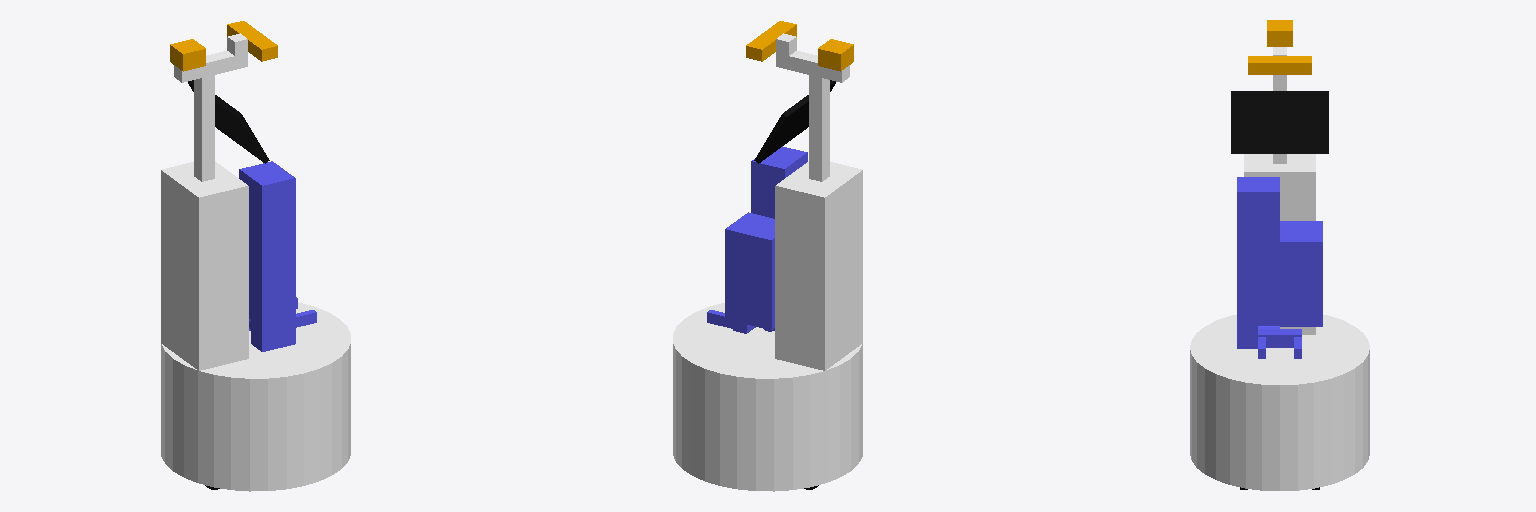
The robot description file, URDF, robot "korus_v3":
<?xml version="1.0" ?>
<!-- =================================================================================== -->
<!-- |    This document was autogenerated by xacro from korus_v3_world.urdf.xacro      | -->
<!-- |    EDITING THIS FILE BY HAND IS NOT RECOMMENDED                                 | -->
<!-- =================================================================================== -->
<robot name="korus_v3" xmlns:xacro="http://www.ros.org/wiki/xacro">
  <!--   <include filename="$(find korus_meta)/resources/urdf/omni_drive_base.urdf.xacro"/> -->
  <!-- ************************ Base model ************************* -->
  <link name="local_manip_start"/>
  <joint name="base_position_x_joint" type="prismatic">
    <parent link="local_manip_start"/>
    <child link="base_position_x_link"/>
    <origin rpy="0 0 0" xyz="0.0 0.0 0.0"/>
    <axis xyz="1 0 0"/>
    <limit effort="10" lower="-2.0" upper="2.0" velocity="1.0"/>
  </joint>
  <link name="base_position_x_link"/>
  <joint name="base_position_y_joint" type="prismatic">
    <parent link="base_position_x_link"/>
    <child link="base_position_y_link"/>
    <origin rpy="0 0 0" xyz="0.0 0.0 0.0"/>
    <axis xyz="0 1 0"/>
    <limit effort="10" lower="-2.0" upper="2.0" velocity="1.0"/>
  </joint>
  <link name="base_position_y_link"/>
  <joint name="base_heading_joint" type="revolute">
    <parent link="base_position_y_link"/>
    <child link="base_link"/>
    <origin rpy="0 0 0" xyz="0.0 0.0 0.075"/>
    <axis xyz="0 0 1"/>
    <limit effort="10" lower="-3.14159265359" upper="3.14159265359" velocity="1.0"/>
  </joint>
  <link name="base_link">
    <visual>
      <origin rpy="0 0 0" xyz="0.0 0 0.0875"/>
      <geometry>
        <cylinder length="0.275" radius="0.250"/>
      </geometry>
      <material name="white">
        <color rgba="1 1 1 1"/>
      </material>
    </visual>
    <collision>
      <origin rpy="0 0 0" xyz="0.0 0 0.0875"/>
      <geometry>
        <cylinder length="0.275" radius="0.250"/>
      </geometry>
      <material name="white">
        <color rgba="1 1 1 1"/>
      </material>
    </collision>
  </link>
  <joint name="wheel_left_joint" type="fixed">
    <parent link="base_link"/>
    <child link="wheel_left_link"/>
    <origin rpy="0 0 1.57079632679" xyz="0.0 0.15 0.0"/>
  </joint>
  <link name="wheel_left_link">
    <visual>
      <geometry>
        <cylinder length="0.03" radius="0.075"/>
      </geometry>
      <origin rpy="0 1.57079632679 0" xyz="0 0 0"/>
      <material name="black">
        <color rgba="0.1 0.1 0.1 1"/>
      </material>
    </visual>
  </link>
  <joint name="wheel_right_joint" type="fixed">
    <parent link="base_link"/>
    <child link="wheel_right_link"/>
    <origin rpy="0 0 1.57079632679" xyz="0.0 -0.15 0.0"/>
  </joint>
  <link name="wheel_right_link">
    <visual>
      <geometry>
        <cylinder length="0.03" radius="0.075"/>
      </geometry>
      <origin rpy="0 1.57079632679 0" xyz="0 0 0"/>
      <material name="black">
        <color rgba="0.1 0.1 0.1 1"/>
      </material>
    </visual>
  </link>
  <joint name="caster_front_left_joint" type="fixed">
    <parent link="base_link"/>
    <child link="caster_front_left_link"/>
    <origin rpy="0 0 1.57079632679" xyz="0.18 0.1 -0.035"/>
  </joint>
  <link name="caster_front_left_link">
    <visual>
      <geometry>
        <cylinder length="0.02" radius="0.04"/>
      </geometry>
      <origin rpy="0 1.57079632679 0" xyz="0 0 0"/>
      <material name="black">
        <color rgba="0.1 0.1 0.1 1"/>
      </material>
    </visual>
  </link>
  <joint name="caster_front_right_joint" type="fixed">
    <parent link="base_link"/>
    <child link="caster_front_right_link"/>
    <origin rpy="0 0 1.57079632679" xyz="0.18 -0.1 -0.035"/>
  </joint>
  <link name="caster_front_right_link">
    <visual>
      <geometry>
        <cylinder length="0.02" radius="0.04"/>
      </geometry>
      <origin rpy="0 1.57079632679 0" xyz="0 0 0"/>
      <material name="black">
        <color rgba="0.1 0.1 0.1 1"/>
      </material>
    </visual>
  </link>
  <joint name="caster_back_left_joint" type="fixed">
    <parent link="base_link"/>
    <child link="caster_back_left_link"/>
    <origin rpy="0 0 1.57079632679" xyz="-0.18 0.1 -0.035"/>
  </joint>
  <link name="caster_back_left_link">
    <visual>
      <geometry>
        <cylinder length="0.02" radius="0.04"/>
      </geometry>
      <origin rpy="0 1.57079632679 0" xyz="0 0 0"/>
      <material name="black">
        <color rgba="0.1 0.1 0.1 1"/>
      </material>
    </visual>
  </link>
  <joint name="caster_back_right_joint" type="fixed">
    <parent link="base_link"/>
    <child link="caster_back_right_link"/>
    <origin rpy="0 0 1.57079632679" xyz="-0.18 -0.1 -0.035"/>
  </joint>
  <link name="caster_back_right_link">
    <visual>
      <geometry>
        <cylinder length="0.02" radius="0.04"/>
      </geometry>
      <origin rpy="0 1.57079632679 0" xyz="0 0 0"/>
      <material name="black">
        <color rgba="0.1 0.1 0.1 1"/>
      </material>
    </visual>
  </link>
  <!--   <xacro:diff_drive_base parent="base_footprint" body_mount_link="base_link"/> -->
  <!--   <xacro:omni_drive_base parent="base_footprint" body_mount_link="base_link"/> -->
  <!-- ************************ Body model ************************* -->
  <joint name="torso_joint" type="revolute">
    <parent link="base_link"/>
    <child link="torso_link"/>
    <origin rpy="0 0 0" xyz="0.0 0.0 0.250"/>
    <axis xyz="0 0 1"/>
    <limit effort="10" lower="-3.14159265359" upper="2.79252680319" velocity="1.0"/>
  </joint>
  <link name="torso_link">
    <visual>
      <origin rpy="0 0 0" xyz="0.0 0.0 0.0"/>
      <geometry>
        <cylinder length="0.05" radius="0.25"/>
      </geometry>
      <material name="white">
        <color rgba="1 1 1 1"/>
      </material>
    </visual>
    <collision>
      <origin rpy="0 0 0" xyz="0.0 0.0 0.0"/>
      <geometry>
        <cylinder length="0.05" radius="0.25"/>
      </geometry>
      <material name="white">
        <color rgba="1 1 1 1"/>
      </material>
    </collision>
  </link>
  <joint name="turret_offset_joint" type="fixed">
    <parent link="torso_link"/>
    <child link="turret_offset_link"/>
    <origin rpy="0 0 0" xyz="-0.155 0.0 0.025"/>
  </joint>
  <link name="turret_offset_link">
    <visual>
      <geometry>
        <box size="0.15 0.20 0.5"/>
      </geometry>
      <origin rpy="0 0 0" xyz="0.0 0 0.25"/>
      <material name="white">
        <color rgba="1 1 1 1"/>
      </material>
    </visual>
    <collision>
      <geometry>
        <box size="0.15 0.20 0.5"/>
      </geometry>
      <origin rpy="0 0 0" xyz="0 0 0.25"/>
    </collision>
  </link>
  <joint name="torso_lift_offset" type="fixed">
    <parent link="turret_offset_link"/>
    <child link="torso_lift_offset_link"/>
    <origin rpy="0 0 0" xyz="0 0 0.22"/>
  </joint>
  <link name="torso_lift_offset_link"/>
  <joint name="torso_lift" type="prismatic">
    <parent link="torso_lift_offset_link"/>
    <child link="torso_lift_link"/>
    <origin rpy="0 0 3.14159265359" xyz="0 0 0"/>
    <axis xyz="0 0 1"/>
    <limit effort="10" lower="-0.07" upper="0.13" velocity="0.5"/>
  </joint>
  <link name="torso_lift_link"/>
  <joint name="neck_joint" type="fixed">
    <parent link="turret_offset_link"/>
    <child link="neck_link"/>
    <origin rpy="0 0 0" xyz="0.0 0.0 0.5"/>
  </joint>
  <link name="neck_link">
    <visual>
      <geometry>
        <box size="0.04 0.04 0.30"/>
      </geometry>
      <origin rpy="0 0 0" xyz="0.0 0.0 0.15"/>
      <material name="white">
        <color rgba="1 1 1 1"/>
      </material>
    </visual>
    <collision>
      <geometry>
        <box size="0.04 0.04 0.30"/>
      </geometry>
      <origin rpy="0 0 0" xyz="0.0 0.0 0.15"/>
      <material name="white">
        <color rgba="1 1 1 1"/>
      </material>
    </collision>
  </link>
  <joint name="tablet_joint" type="fixed">
    <parent link="neck_link"/>
    <child link="tablet_link"/>
    <origin rpy="0 0 0" xyz="0.02 0.0 0.15"/>
  </joint>
  <link name="tablet_link">
    <visual>
      <geometry>
        <box size="0.015 0.270 0.175"/>
      </geometry>
      <origin rpy="0.0 -0.5 0.0" xyz="0.05 0.0 0.0"/>
      <material name="black">
        <color rgba="0.1 0.1 0.1 1"/>
      </material>
    </visual>
    <collision>
      <geometry>
        <box size="0.015 0.270 0.175"/>
      </geometry>
      <origin rpy="0.0 -0.5 0.0" xyz="0.05 0.0 0.0"/>
      <material name="black">
        <color rgba="0.1 0.1 0.1 1"/>
      </material>
    </collision>
  </link>
  <joint name="head_joint" type="fixed">
    <parent link="neck_link"/>
    <child link="head_link"/>
    <origin rpy="0 0 0" xyz="0.0 0.0 0.3"/>
  </joint>
  <link name="head_link">
    <visual>
      <geometry>
        <box size="0.20 0.04 0.04"/>
      </geometry>
      <origin rpy="0.0 0.0 0.0" xyz="0.02 0.0 0.02"/>
      <material name="white">
        <color rgba="1 1 1 1"/>
      </material>
    </visual>
    <collision>
      <geometry>
        <box size="0.20 0.04 0.04"/>
      </geometry>
      <origin rpy="0.0 0.0 0.0" xyz="0.02 0.0 0.02"/>
      <material name="white">
        <color rgba="1 1 1 1"/>
      </material>
    </collision>
  </link>
  <joint name="asus_pan_joint" type="revolute">
    <parent link="head_link"/>
    <child link="asus_pan_link"/>
    <origin rpy="0 0 0" xyz="0.10 0.0 0.04"/>
    <axis xyz="0 0 1"/>
    <limit effort="10" lower="-2.35619449019" upper="2.35619449019" velocity="1.0"/>
  </joint>
  <link name="asus_pan_link">
    <visual>
      <geometry>
        <box size="0.04 0.04 0.04"/>
      </geometry>
      <origin rpy="0.0 0.0 0.0" xyz="0.0 0.0 0.02"/>
      <material name="white">
        <color rgba="1 1 1 1"/>
      </material>
    </visual>
    <collision>
      <geometry>
        <box size="0.04 0.04 0.04"/>
      </geometry>
      <origin rpy="0.0 0.0 0.0" xyz="0.0 0.0 0.02"/>
      <material name="white">
        <color rgba="1 1 1 1"/>
      </material>
    </collision>
  </link>
  <joint name="asus_tilt_joint" type="revolute">
    <parent link="asus_pan_link"/>
    <child link="asus_tilt_link"/>
    <origin rpy="-1.57079632679 0 0" xyz="0.02 0.0 0.02"/>
    <axis xyz="0 0 1"/>
    <limit effort="10" lower="-1.57079632679" upper="0.523598775598" velocity="1.0"/>
  </joint>
  <link name="asus_tilt_link">
    <visual>
      <geometry>
        <box size="0.05 0.035 0.18"/>
      </geometry>
      <origin rpy="0 0 0" xyz="0.025 0.0 0.0"/>
      <material name="orange">
        <color rgba="1.0 0.7 0.0 1"/>
      </material>
    </visual>
    <collision>
      <geometry>
        <box size="0.05 0.035 0.18"/>
      </geometry>
      <origin rpy="0 0 0" xyz="0.025 0.0 0.0"/>
      <material name="orange">
        <color rgba="1.0 0.7 0.0 1"/>
      </material>
    </collision>
  </link>
  <joint name="stargazer_joint" type="fixed">
    <parent link="head_link"/>
    <child link="stargazer_link"/>
    <origin rpy="0 0 0" xyz="-0.05 0.0 0.04"/>
  </joint>
  <link name="stargazer_link">
    <visual>
      <geometry>
        <box size="0.07 0.07 0.05"/>
      </geometry>
      <origin rpy="0.0 0.0 0.0" xyz="0.0 0.0 0.025"/>
      <material name="orange">
        <color rgba="1.0 0.7 0.0 1"/>
      </material>
    </visual>
    <collision>
      <geometry>
        <box size="0.07 0.07 0.05"/>
      </geometry>
      <origin rpy="0.0 0.0 0.0" xyz="0.0 0.0 0.025"/>
      <material name="orange">
        <color rgba="1.0 0.7 0.0 1"/>
      </material>
    </collision>
  </link>
  <!-- ************************ Arm model ************************* -->
  <joint name="arm_mount_joint" type="fixed">
    <parent link="torso_lift_link"/>
    <child link="shoulder_link"/>
    <origin rpy="0 0 0" xyz="-0.075 -0.06 0"/>
  </joint>
  <link name="shoulder_link">
    <visual>
      <geometry>
        <box size="0.14 0.12 0.26"/>
      </geometry>
      <origin rpy="0 0 0" xyz="-0.07 0.0 0.0"/>
      <material name="grey_blue">
        <color rgba="0.4 0.4 1.0 1"/>
      </material>
    </visual>
  </link>
  <joint name="shoulder_joint" type="revolute">
    <parent link="shoulder_link"/>
    <child link="upper_arm_link"/>
    <origin rpy="-1.57079632679 -1.57079632679 0.0" xyz="-0.08 0.06 -0.08"/>
    <axis xyz="0 0 1"/>
    <limit effort="10" lower="-4.71238898038" upper="0.0" velocity="0.013"/>
  </joint>
  <link name="upper_arm_link">
    <visual>
      <geometry>
        <box size="0.41 0.10 0.06"/>
      </geometry>
      <origin rpy="0 0 0" xyz="0.155 0.0 0.03"/>
      <material name="grey_blue">
        <color rgba="0.4 0.4 1.0 1"/>
      </material>
    </visual>
  </link>
  <joint name="elbow_joint" type="revolute">
    <parent link="upper_arm_link"/>
    <child link="lower_arm_link"/>
    <origin rpy="0 0 3.141592" xyz="0.31 0.0 0.06"/>
    <axis xyz="0 0 1"/>
    <limit effort="10" lower="0.0" upper="4.71238898038" velocity="0.013"/>
  </joint>
  <link name="lower_arm_link">
    <visual>
      <geometry>
        <box size="0.48 0.10 0.06"/>
      </geometry>
      <origin rpy="0 0 0" xyz="0.19 0.00 0.03"/>
      <material name="grey_blue">
        <color rgba="0.4 0.4 1.0 1"/>
      </material>
    </visual>
  </link>
  <joint name="wrist_joint" type="revolute">
    <parent link="lower_arm_link"/>
    <child link="wrist_link"/>
    <origin rpy="0 0 1.57079632679" xyz="0.40 0.0 0.0"/>
    <axis xyz="0 0 1"/>
    <limit effort="10" lower="-3.14159265359" upper="3.14159265359" velocity="0.013"/>
  </joint>
  <link name="wrist_link">
    <visual>
      <geometry>
        <cylinder length="0.06" radius="0.03"/>
      </geometry>
      <origin rpy="0 0 0" xyz="0.0 0.0 -0.03"/>
      <material name="grey_blue">
        <color rgba="0.4 0.4 1.0 1"/>
      </material>
    </visual>
  </link>
  <joint name="gripper_joint" type="fixed">
    <parent link="wrist_link"/>
    <child link="gripper_link"/>
    <origin rpy="0.0 0.0 0.0" xyz="0.05 0 -0.06"/>
    <axis xyz="0 0 1"/>
    <limit effort="10" lower="-1.6232" upper="1.6232" velocity="0.5"/>
  </joint>
  <link name="gripper_link">
    <visual>
      <geometry>
        <box size="0.04 0.04 0.12"/>
      </geometry>
      <origin rpy="0 0 0" xyz="0.0 0.0 0.0"/>
      <material name="grey_blue">
        <color rgba="0.4 0.4 1.0 1"/>
      </material>
    </visual>
  </link>
  <joint name="gripper_left_finger_joint" type="prismatic">
    <parent link="gripper_link"/>
    <child link="gripper_left_finger_tip_link"/>
    <origin rpy="0.0 0.0 0.0" xyz="0.02 0.0 -0.05"/>
    <axis xyz="0 1 0"/>
    <limit effort="10" lower="0.0" upper="0.04" velocity="0.5"/>
  </joint>
  <link name="gripper_left_finger_tip_link">
    <visual>
      <geometry>
        <box size="0.08 0.03 0.02"/>
      </geometry>
      <origin rpy="0 0 0" xyz="0.04 0.0 0.0"/>
      <material name="grey_blue">
        <color rgba="0.4 0.4 1.0 1"/>
      </material>
    </visual>
  </link>
  <joint name="gripper_right_finger_joint" type="prismatic">
    <parent link="gripper_link"/>
    <child link="gripper_right_finger_tip_link"/>
    <origin rpy="3.14159265359 0.0 0.0" xyz="0.02 0.0 0.05"/>
    <axis xyz="0 1 0"/>
    <limit effort="10" lower="0.0" upper="0.04" velocity="0.5"/>
  </joint>
  <link name="gripper_right_finger_tip_link">
    <visual>
      <geometry>
        <box size="0.08 0.03 0.02"/>
      </geometry>
      <origin rpy="0 0 0" xyz="0.04 0.0 0.0"/>
      <material name="grey_blue">
        <color rgba="0.4 0.4 1.0 1"/>
      </material>
    </visual>
  </link>
  <joint name="gripper_center_joint" type="fixed">
    <parent link="gripper_link"/>
    <child link="gripper_center_link"/>
    <origin rpy="0 0 0" xyz="0.10 0 0"/>
  </joint>
  <link name="gripper_center_link">
    <!--       <visual> -->
    <!--         <geometry> -->
    <!--           <box size="0.10 0.15 0.10"/> -->
    <!--         </geometry> -->
    <!--         <origin xyz="0.0 0.0 0.0" rpy="0 0 0"/> -->
    <!--         <xacro:insert_block name="material_orange" /> -->
    <!--       </visual>    -->
  </link>
  <!-- ************************ Table model ************************* -->
  <!--   <xacro:table parent="world"/> -->
  <!-- ************************ Object on floor ************************* -->
  <!--   <joint name="floor_object" type="fixed"> -->
  <!--     <parent link="world"/> -->
  <!--     <child link="floor_object_link"/> -->
  <!--     <origin xyz="-0.3 0.0 0.0" rpy="0 0 0" /> -->
  <!--   </joint> -->
  <!-- 	<link name="floor_object_link"> -->
  <!-- 	  <visual> -->
  <!-- 	    <geometry> -->
  <!-- 	      <box size="0.08 0.08 0.15"/> -->
  <!-- 	    </geometry> -->
  <!-- 	    <origin xyz="0.0 0.0 0.075" rpy="0 0 0"/> -->
  <!-- 	    <xacro:insert_block name="material_green" /> -->
  <!-- 	  </visual> -->
  <!-- 	  <collision> -->
  <!-- 	    <geometry> -->
  <!-- 	      <box size="0.08 0.08 0.15"/> -->
  <!-- 	    </geometry> -->
  <!-- 	    <origin xyz="0.0 0.0 0.075" rpy="0 0 0"/> -->
  <!-- 	    <xacro:insert_block name="material_green" />   -->
  <!-- 	  </collision> -->
  <!-- 	</link> -->
</robot>

--- Facts derived from the render (not from the file) ---
3 views of the same robot in one strip: view 1: azimuth 30°, elevation 25°; view 2: azimuth 150°, elevation 25°; view 3: azimuth 270°, elevation 25° (orthographic).
Robot: korus_v3 — 28 links, 27 joints (7 revolute, 5 prismatic, 15 fixed); root link local_manip_start; default pose: every joint at zero.
Links seen in each view (by area): view 1: base_link, turret_offset_link, torso_link, lower_arm_link, neck_link, tablet_link, head_link, asus_tilt_link, stargazer_link, upper_arm_link; view 2: base_link, turret_offset_link, torso_link, shoulder_link, neck_link, upper_arm_link, tablet_link, head_link, asus_tilt_link, stargazer_link; view 3: base_link, torso_link, tablet_link, shoulder_link, lower_arm_link, upper_arm_link, turret_offset_link, asus_tilt_link, stargazer_link, gripper_link.
Boxes of the visible links, left/top/right/bottom form: base_link: left=161, top=361, right=350, bottom=491; turret_offset_link: left=161, top=161, right=248, bottom=370; torso_link: left=161, top=302, right=350, bottom=395; lower_arm_link: left=251, top=170, right=295, bottom=351; neck_link: left=194, top=75, right=214, bottom=181; tablet_link: left=188, top=80, right=269, bottom=163; head_link: left=174, top=51, right=247, bottom=82; asus_tilt_link: left=227, top=21, right=277, bottom=61; stargazer_link: left=170, top=39, right=205, bottom=71; upper_arm_link: left=239, top=161, right=283, bottom=318; base_link: left=673, top=361, right=862, bottom=491; turret_offset_link: left=775, top=161, right=862, bottom=370; torso_link: left=673, top=303, right=862, bottom=395; shoulder_link: left=725, top=212, right=774, bottom=330; neck_link: left=809, top=75, right=829, bottom=181; upper_arm_link: left=751, top=155, right=795, bottom=218; tablet_link: left=754, top=80, right=835, bottom=163; head_link: left=776, top=51, right=849, bottom=82; asus_tilt_link: left=746, top=21, right=796, bottom=61; stargazer_link: left=818, top=39, right=853, bottom=71; base_link: left=1190, top=366, right=1369, bottom=490; torso_link: left=1190, top=314, right=1369, bottom=401; tablet_link: left=1231, top=91, right=1328, bottom=153; shoulder_link: left=1280, top=221, right=1322, bottom=326; lower_arm_link: left=1237, top=177, right=1257, bottom=348; upper_arm_link: left=1258, top=177, right=1279, bottom=325; turret_offset_link: left=1244, top=154, right=1315, bottom=334; asus_tilt_link: left=1248, top=56, right=1311, bottom=74; stargazer_link: left=1267, top=20, right=1292, bottom=46; gripper_link: left=1258, top=329, right=1301, bottom=347.
Size in the robot's own frame: 0.5 by 0.5 by 1.24 metres.
Geometry: primitives only (box / cylinder / sphere), no mesh files.